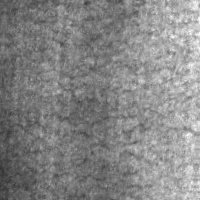crazing: (5, 92, 200, 187)
